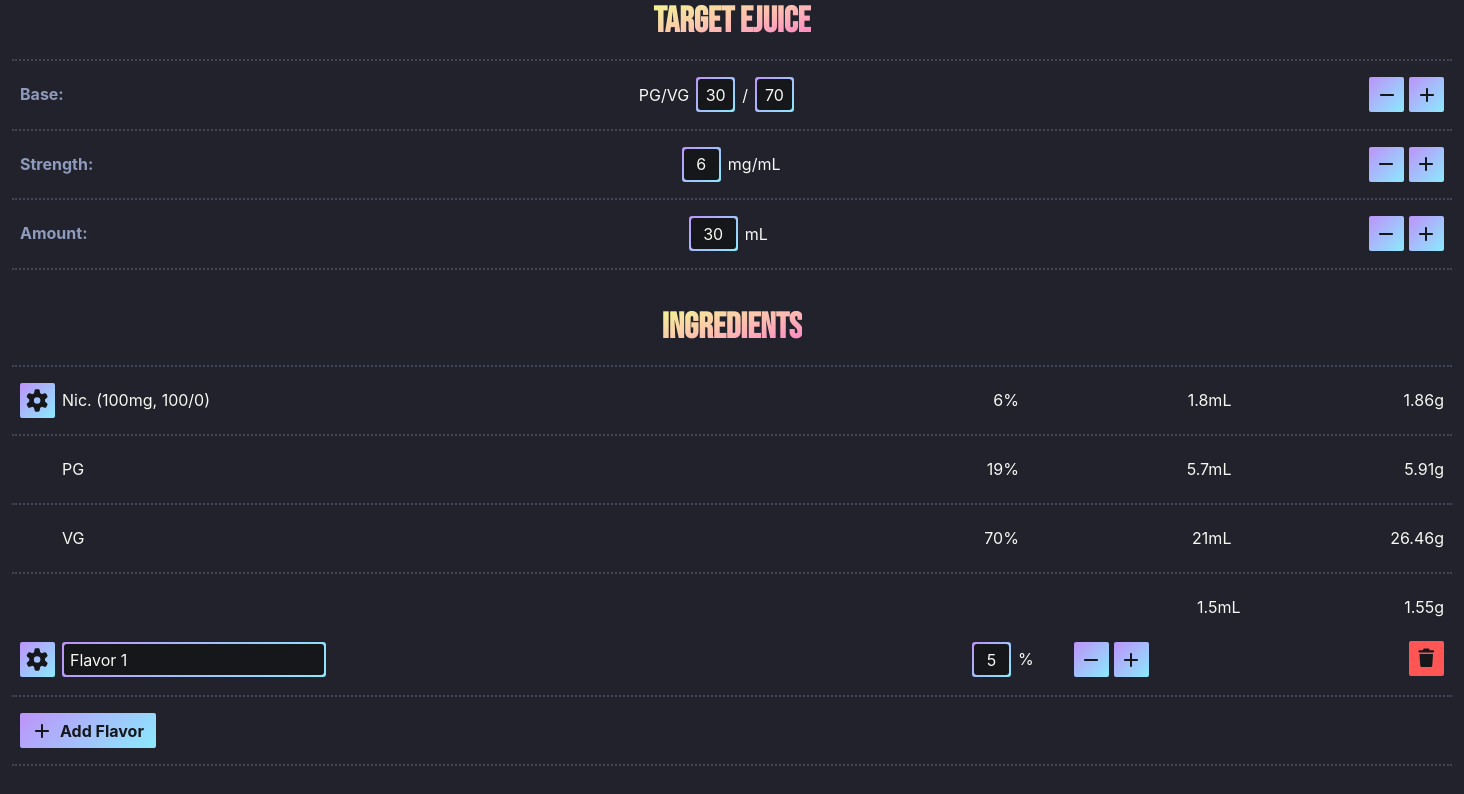
Test: Calculator initialization › disables saving while the formula is not possible
Click the button with test id "nicConfigBtn" at (38, 400), box [20,382,55,418]
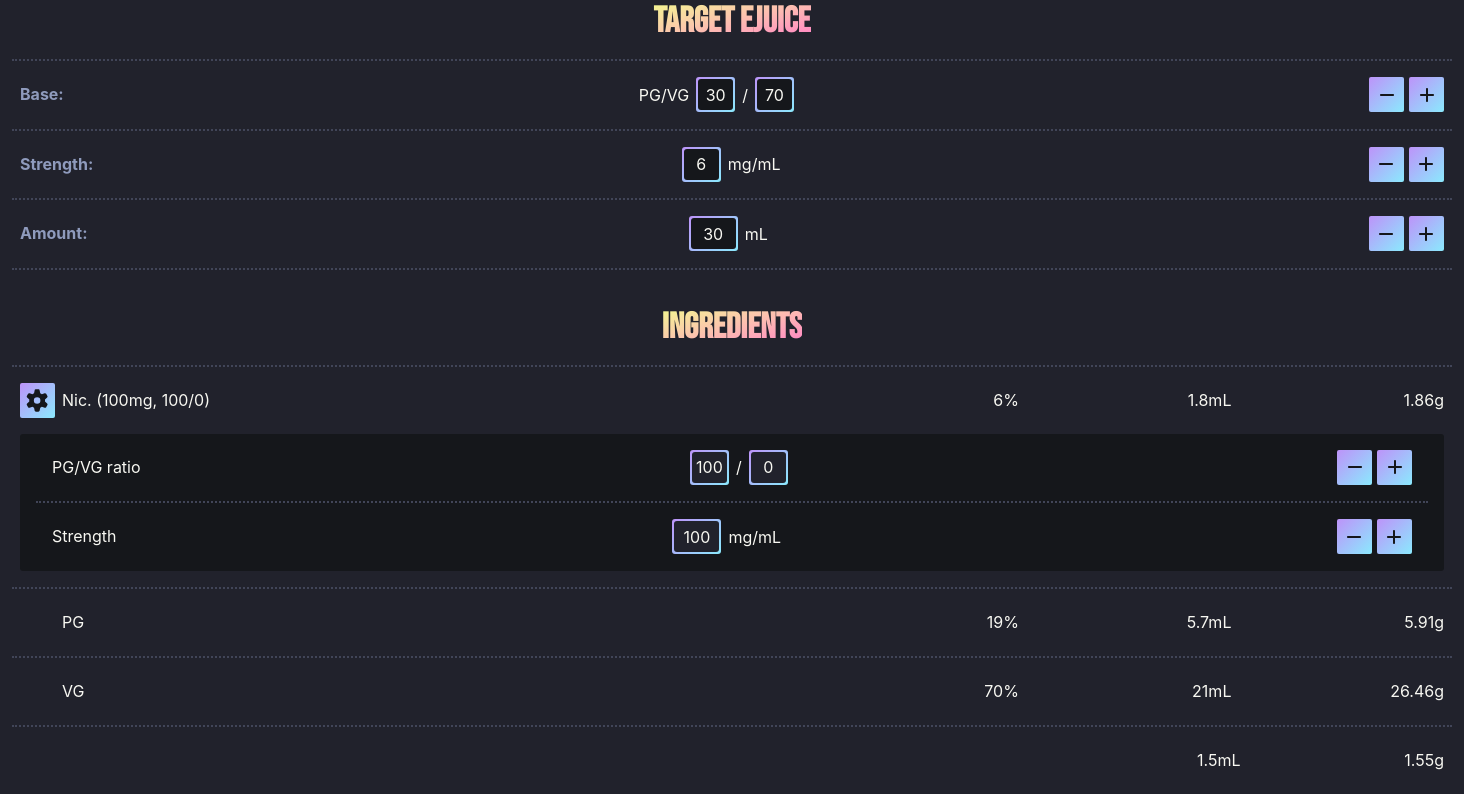
Replace the text in the number field with test id "nicConfigStrengthInput" with "3" at (697, 536), box [674,521,719,552]
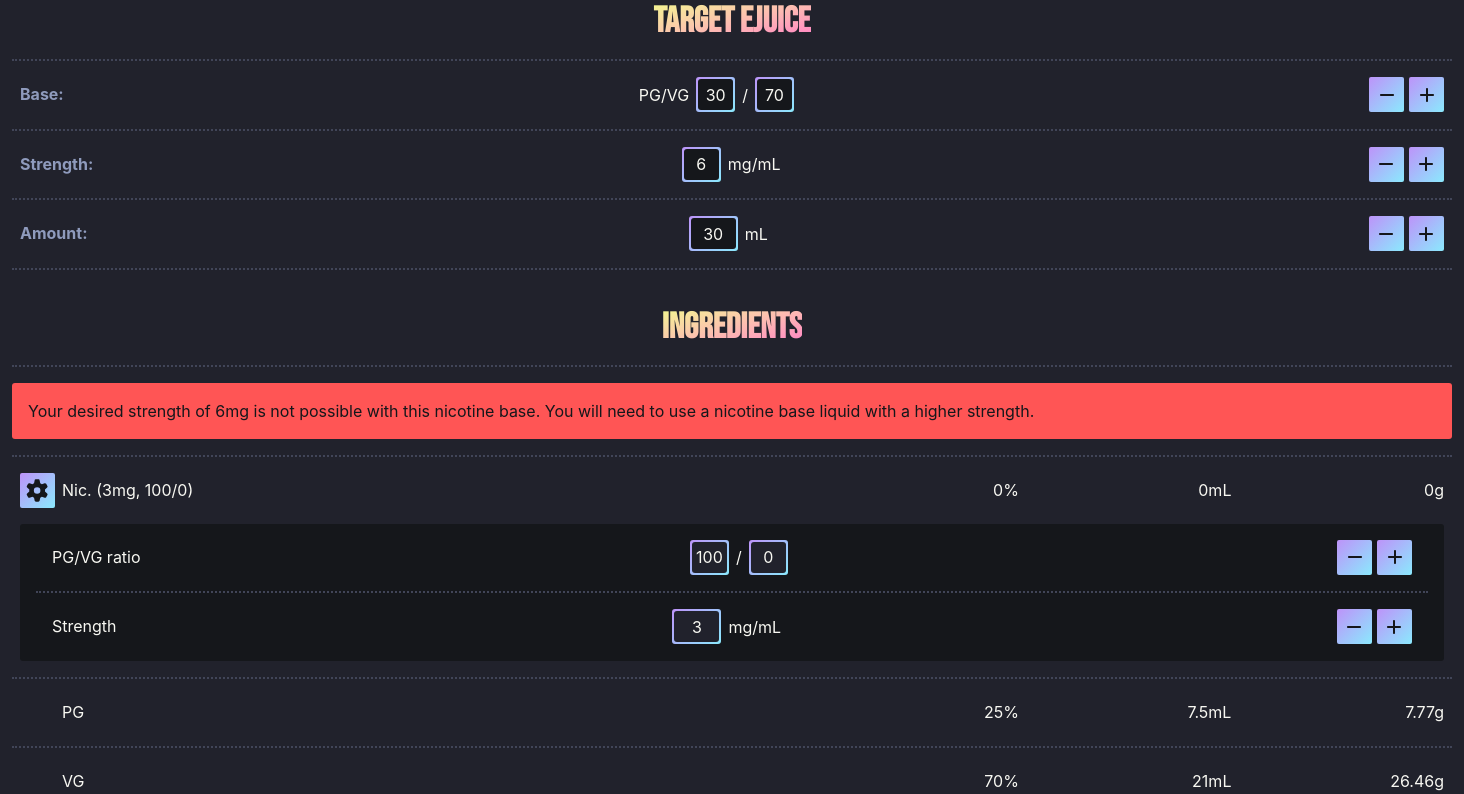
Replace the text in the number field with test id "nicConfigStrengthInput" with "100" at (697, 626), box [674,611,719,642]
(page scrolled)
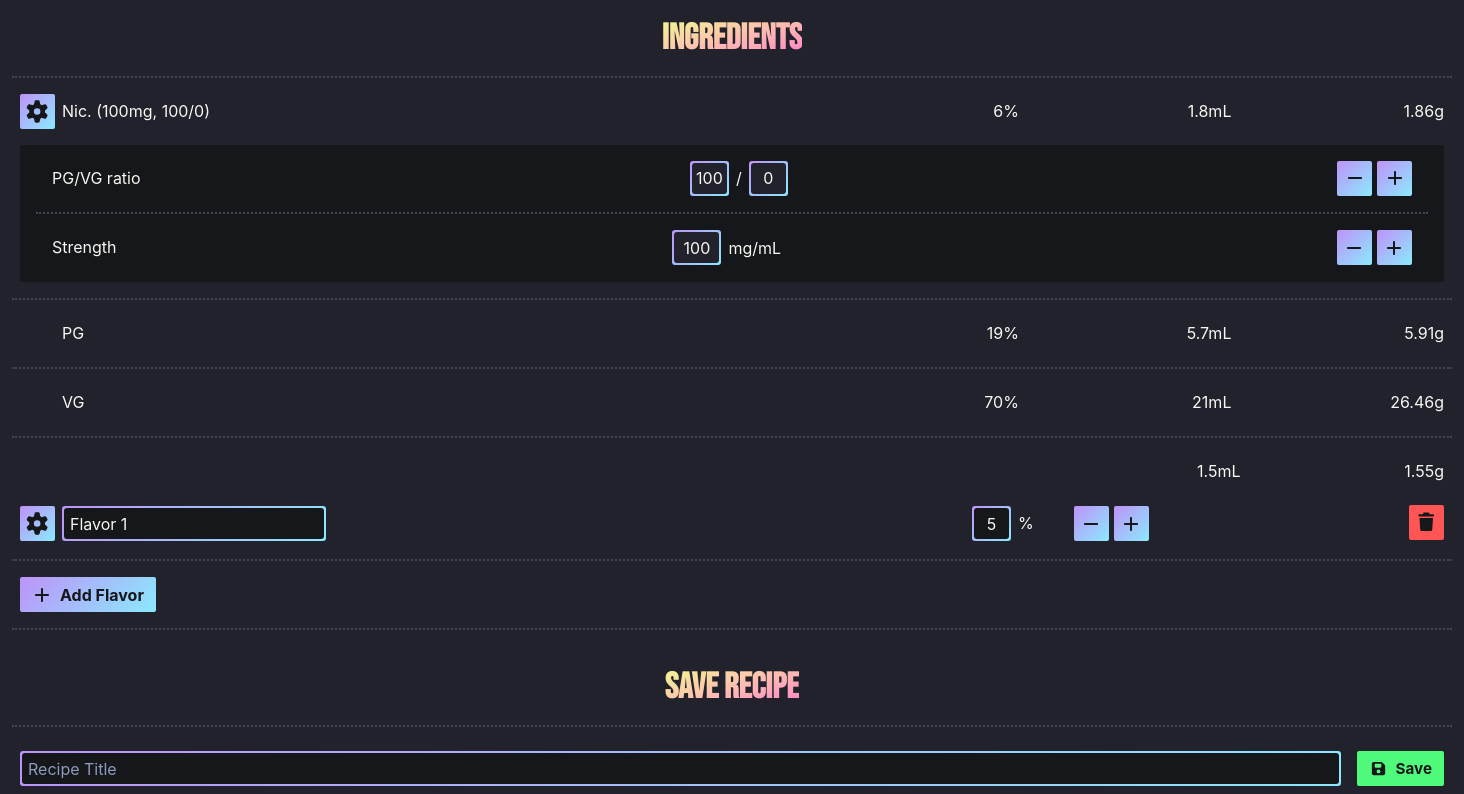
Check: the button "Save" is enabled, box [1357,751,1444,786]
